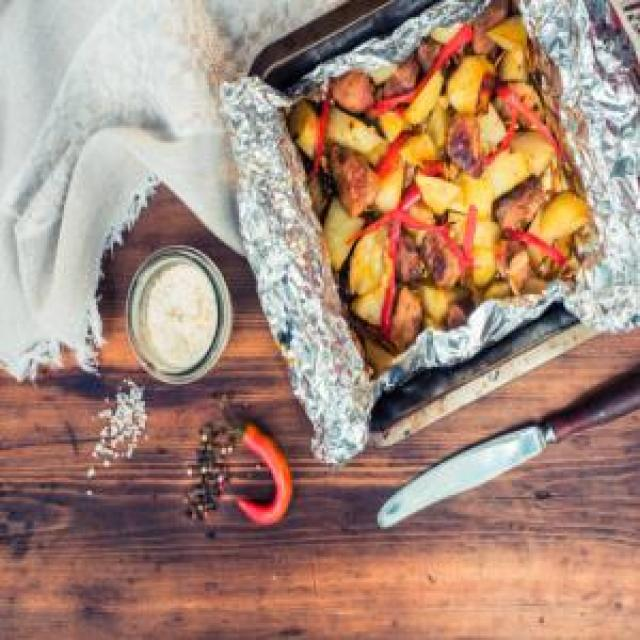knife: (375, 361, 638, 531)
